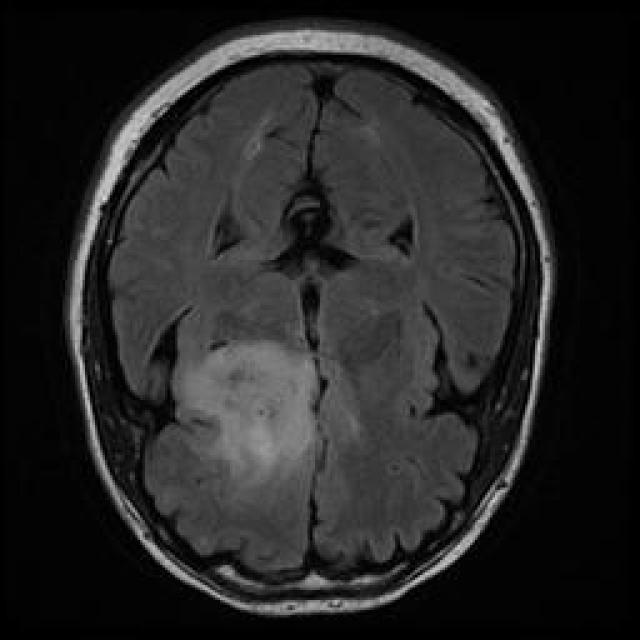Tumor-Cell: (180, 331, 372, 482)
